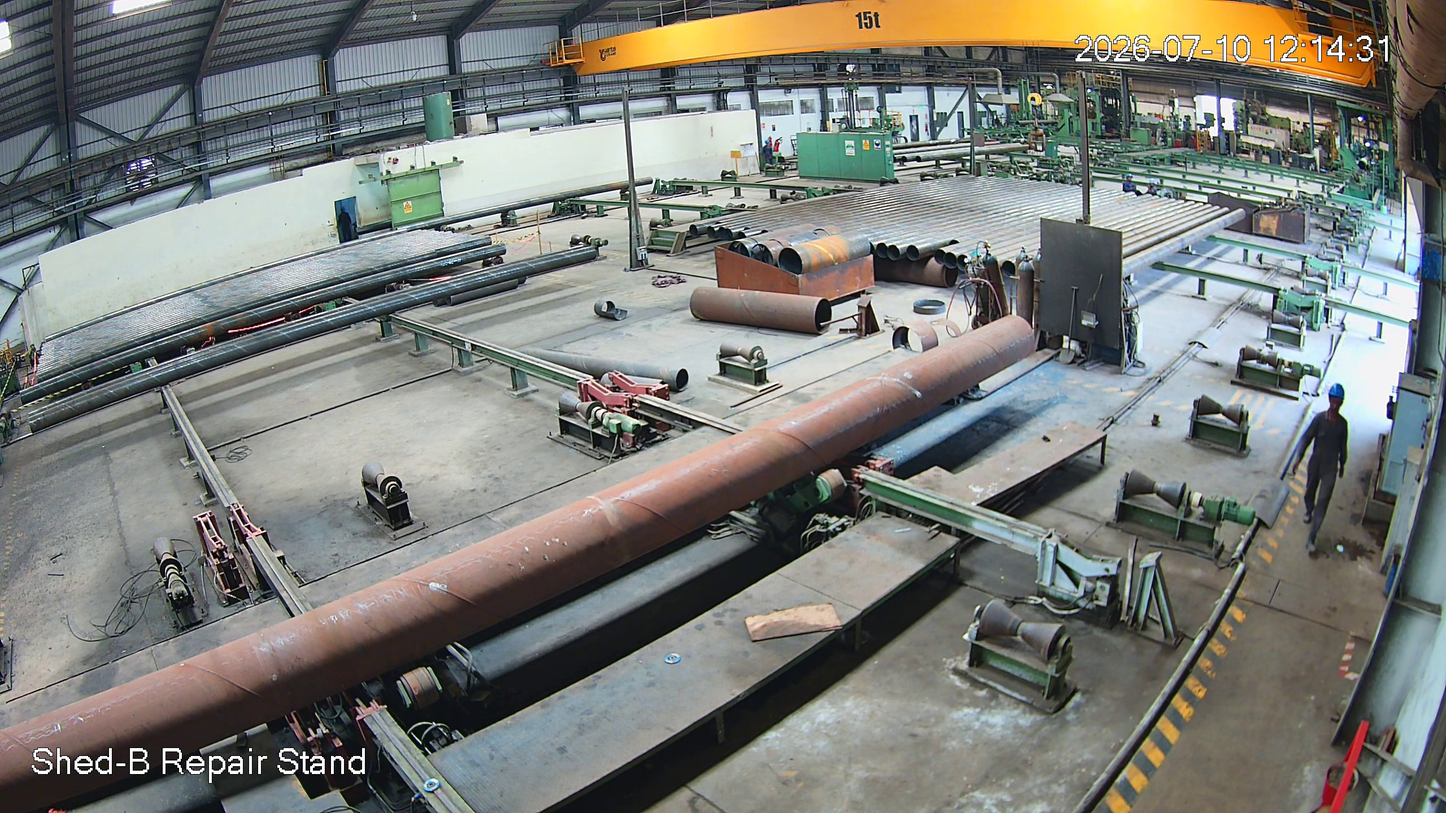Helmet: (1323, 378, 1352, 417)
Person: (1299, 382, 1362, 555)
